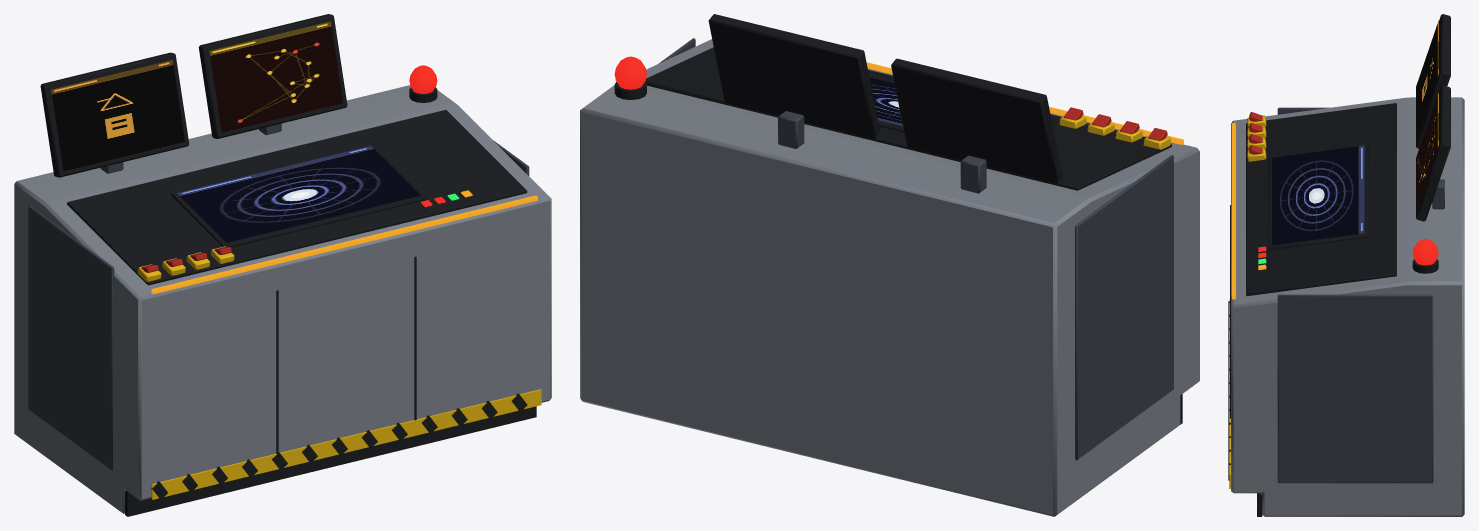
Rendered from console_damage_control.glb.
3 views of the same model, side by side, from view 1: azimuth 30°, elevation 25°; view 2: azimuth 150°, elevation 25°; view 3: azimuth 270°, elevation 25° (orthographic). The views are drawn at different scales.
Visible parts, largest first — view 1: console_damage_control; view 2: console_damage_control; view 3: console_damage_control.
Boxes of the visible parts, bbox=[...] form: console_damage_control: bbox=[14, 14, 551, 516]; console_damage_control: bbox=[580, 14, 1199, 516]; console_damage_control: bbox=[1228, 14, 1464, 516].
Size of the model in its own units: 1.72 by 1.39 by 0.9102.
Materials: 11 (3 with a texture image).
